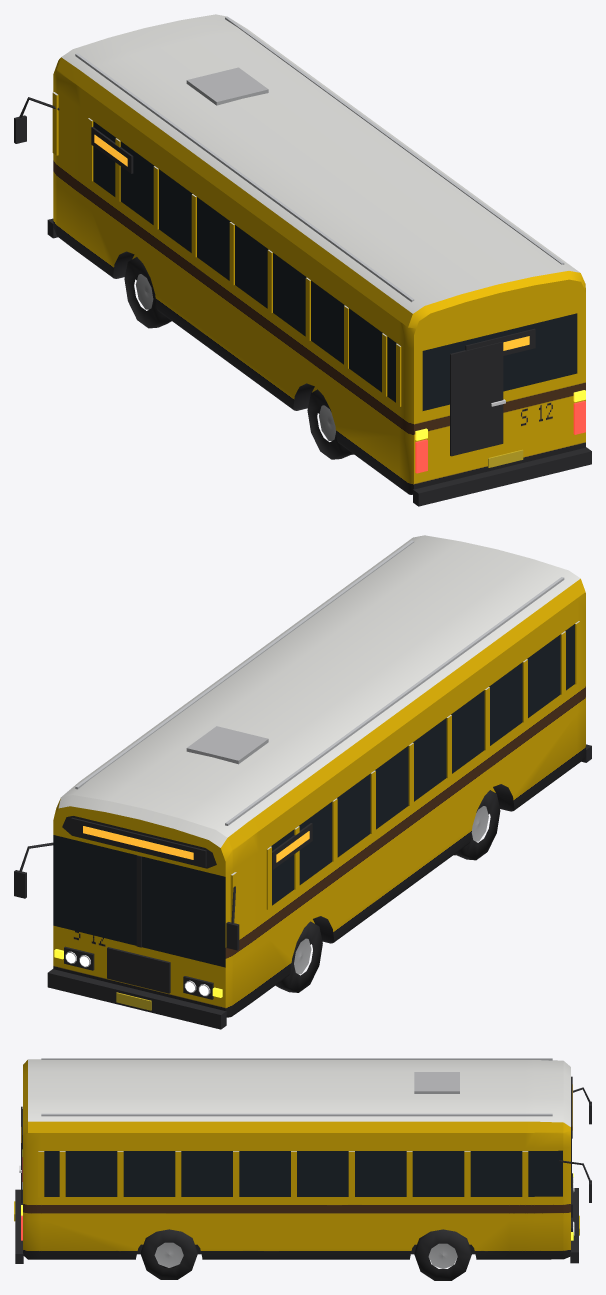
File: bus_school_lod1.glb
3 renders of one model, top to bottom at view 1: azimuth 30°, elevation 25°; view 2: azimuth 150°, elevation 25°; view 3: azimuth 270°, elevation 25°, orthographic. The views are drawn at different scales.
Parts seen in each view (by area): view 1: body, wheel_fl, wheel_rl, dest_rear, dest_side; view 2: body, dest_front, wheel_fl, wheel_rl, dest_side; view 3: body, wheel_fr, wheel_rr.
Part boxes in pixels (box(x1,y1,x2,y2)): body: box(14, 14, 591, 506); wheel_fl: box(124, 257, 171, 328); wheel_rl: box(307, 389, 353, 459); dest_rear: box(465, 328, 535, 355); dest_side: box(91, 127, 133, 173); body: box(14, 535, 591, 1029); dest_front: box(71, 817, 206, 867); wheel_fl: box(275, 921, 322, 992); wheel_rl: box(453, 790, 500, 860); dest_side: box(272, 823, 312, 869); body: box(14, 1058, 591, 1263); wheel_fr: box(414, 1229, 472, 1280); wheel_rr: box(140, 1229, 197, 1279).
Bounding box in the file's own units: 3.22 × 3.09 × 9.5.
2 materials, 2 textured.
